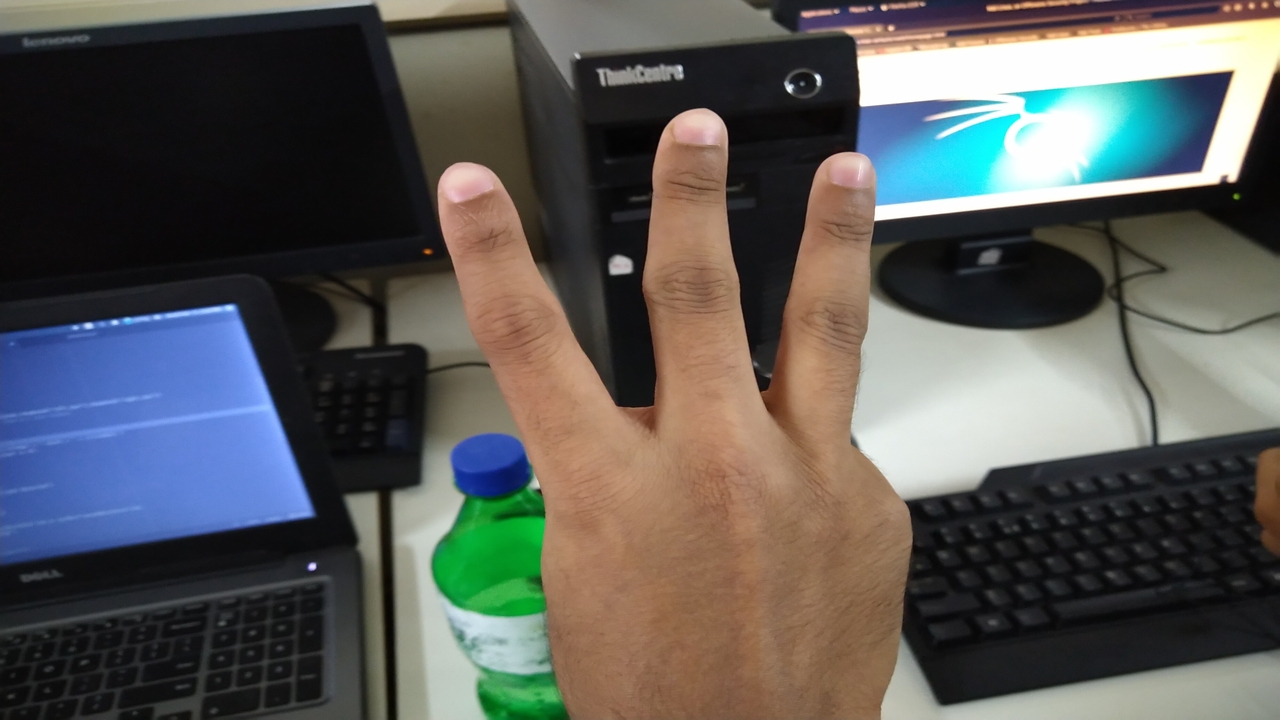fingertip: (428, 154, 506, 226), (654, 104, 730, 172), (814, 142, 882, 208)
